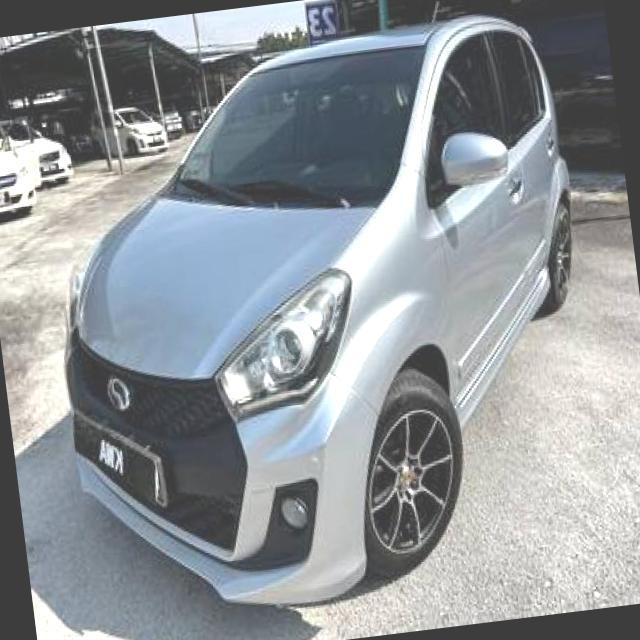PeroduaMyvi: (24, 0, 620, 630)
